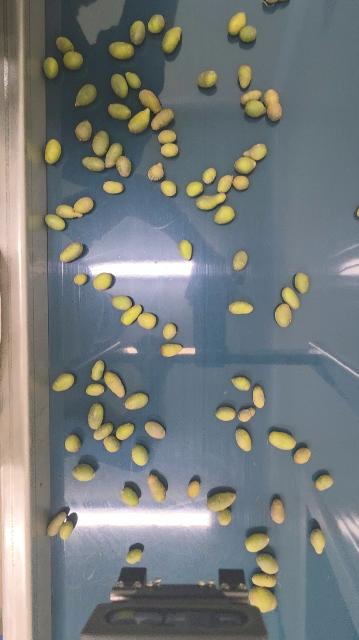Baby Potato: (248, 585, 279, 614), (263, 87, 284, 122), (268, 428, 298, 452), (127, 107, 152, 134), (206, 490, 238, 511), (196, 191, 228, 211), (161, 25, 183, 54), (104, 370, 126, 398), (138, 88, 162, 113), (150, 107, 175, 131), (109, 72, 130, 100), (59, 241, 84, 264), (74, 83, 97, 108), (256, 552, 280, 575), (48, 510, 67, 539), (147, 473, 166, 502), (245, 532, 271, 553), (227, 10, 247, 37), (91, 130, 111, 157), (108, 41, 136, 60), (281, 285, 302, 310), (269, 498, 289, 524), (104, 141, 123, 168), (121, 303, 142, 327), (243, 98, 268, 118), (44, 138, 62, 165), (213, 203, 235, 225), (87, 402, 104, 430), (129, 19, 147, 45), (275, 302, 293, 328), (44, 212, 67, 232), (52, 372, 75, 392), (310, 528, 327, 555), (124, 391, 148, 410), (235, 156, 259, 175), (235, 427, 253, 452), (228, 299, 254, 316), (107, 103, 133, 120), (197, 68, 218, 89), (72, 463, 95, 482), (252, 572, 279, 588), (63, 50, 84, 70), (237, 63, 253, 89), (55, 203, 81, 219), (75, 119, 93, 142), (43, 56, 60, 80), (93, 271, 113, 291), (251, 384, 267, 409), (73, 196, 94, 215), (145, 420, 166, 439), (148, 12, 166, 34), (232, 249, 249, 272), (82, 155, 105, 172), (116, 155, 133, 178), (248, 142, 268, 161), (121, 486, 139, 507), (91, 358, 106, 383), (131, 444, 148, 466), (111, 294, 133, 311), (239, 24, 258, 43), (138, 311, 157, 330), (294, 446, 313, 465), (315, 473, 334, 492), (115, 422, 135, 440), (216, 174, 234, 194), (216, 405, 237, 422), (93, 423, 114, 440), (294, 271, 310, 293), (156, 128, 178, 144), (55, 35, 74, 53), (148, 162, 165, 182), (237, 405, 257, 422), (231, 375, 252, 391), (241, 88, 263, 103), (160, 342, 182, 357), (124, 70, 141, 89), (59, 520, 75, 540), (65, 433, 81, 453), (179, 239, 193, 261), (102, 180, 124, 194), (233, 173, 250, 191), (160, 179, 177, 197), (186, 180, 204, 197), (201, 166, 217, 185), (160, 142, 179, 158), (85, 382, 105, 397), (103, 435, 120, 452), (217, 509, 233, 526), (126, 547, 143, 563), (162, 323, 178, 340), (188, 480, 201, 499), (74, 272, 88, 286)
